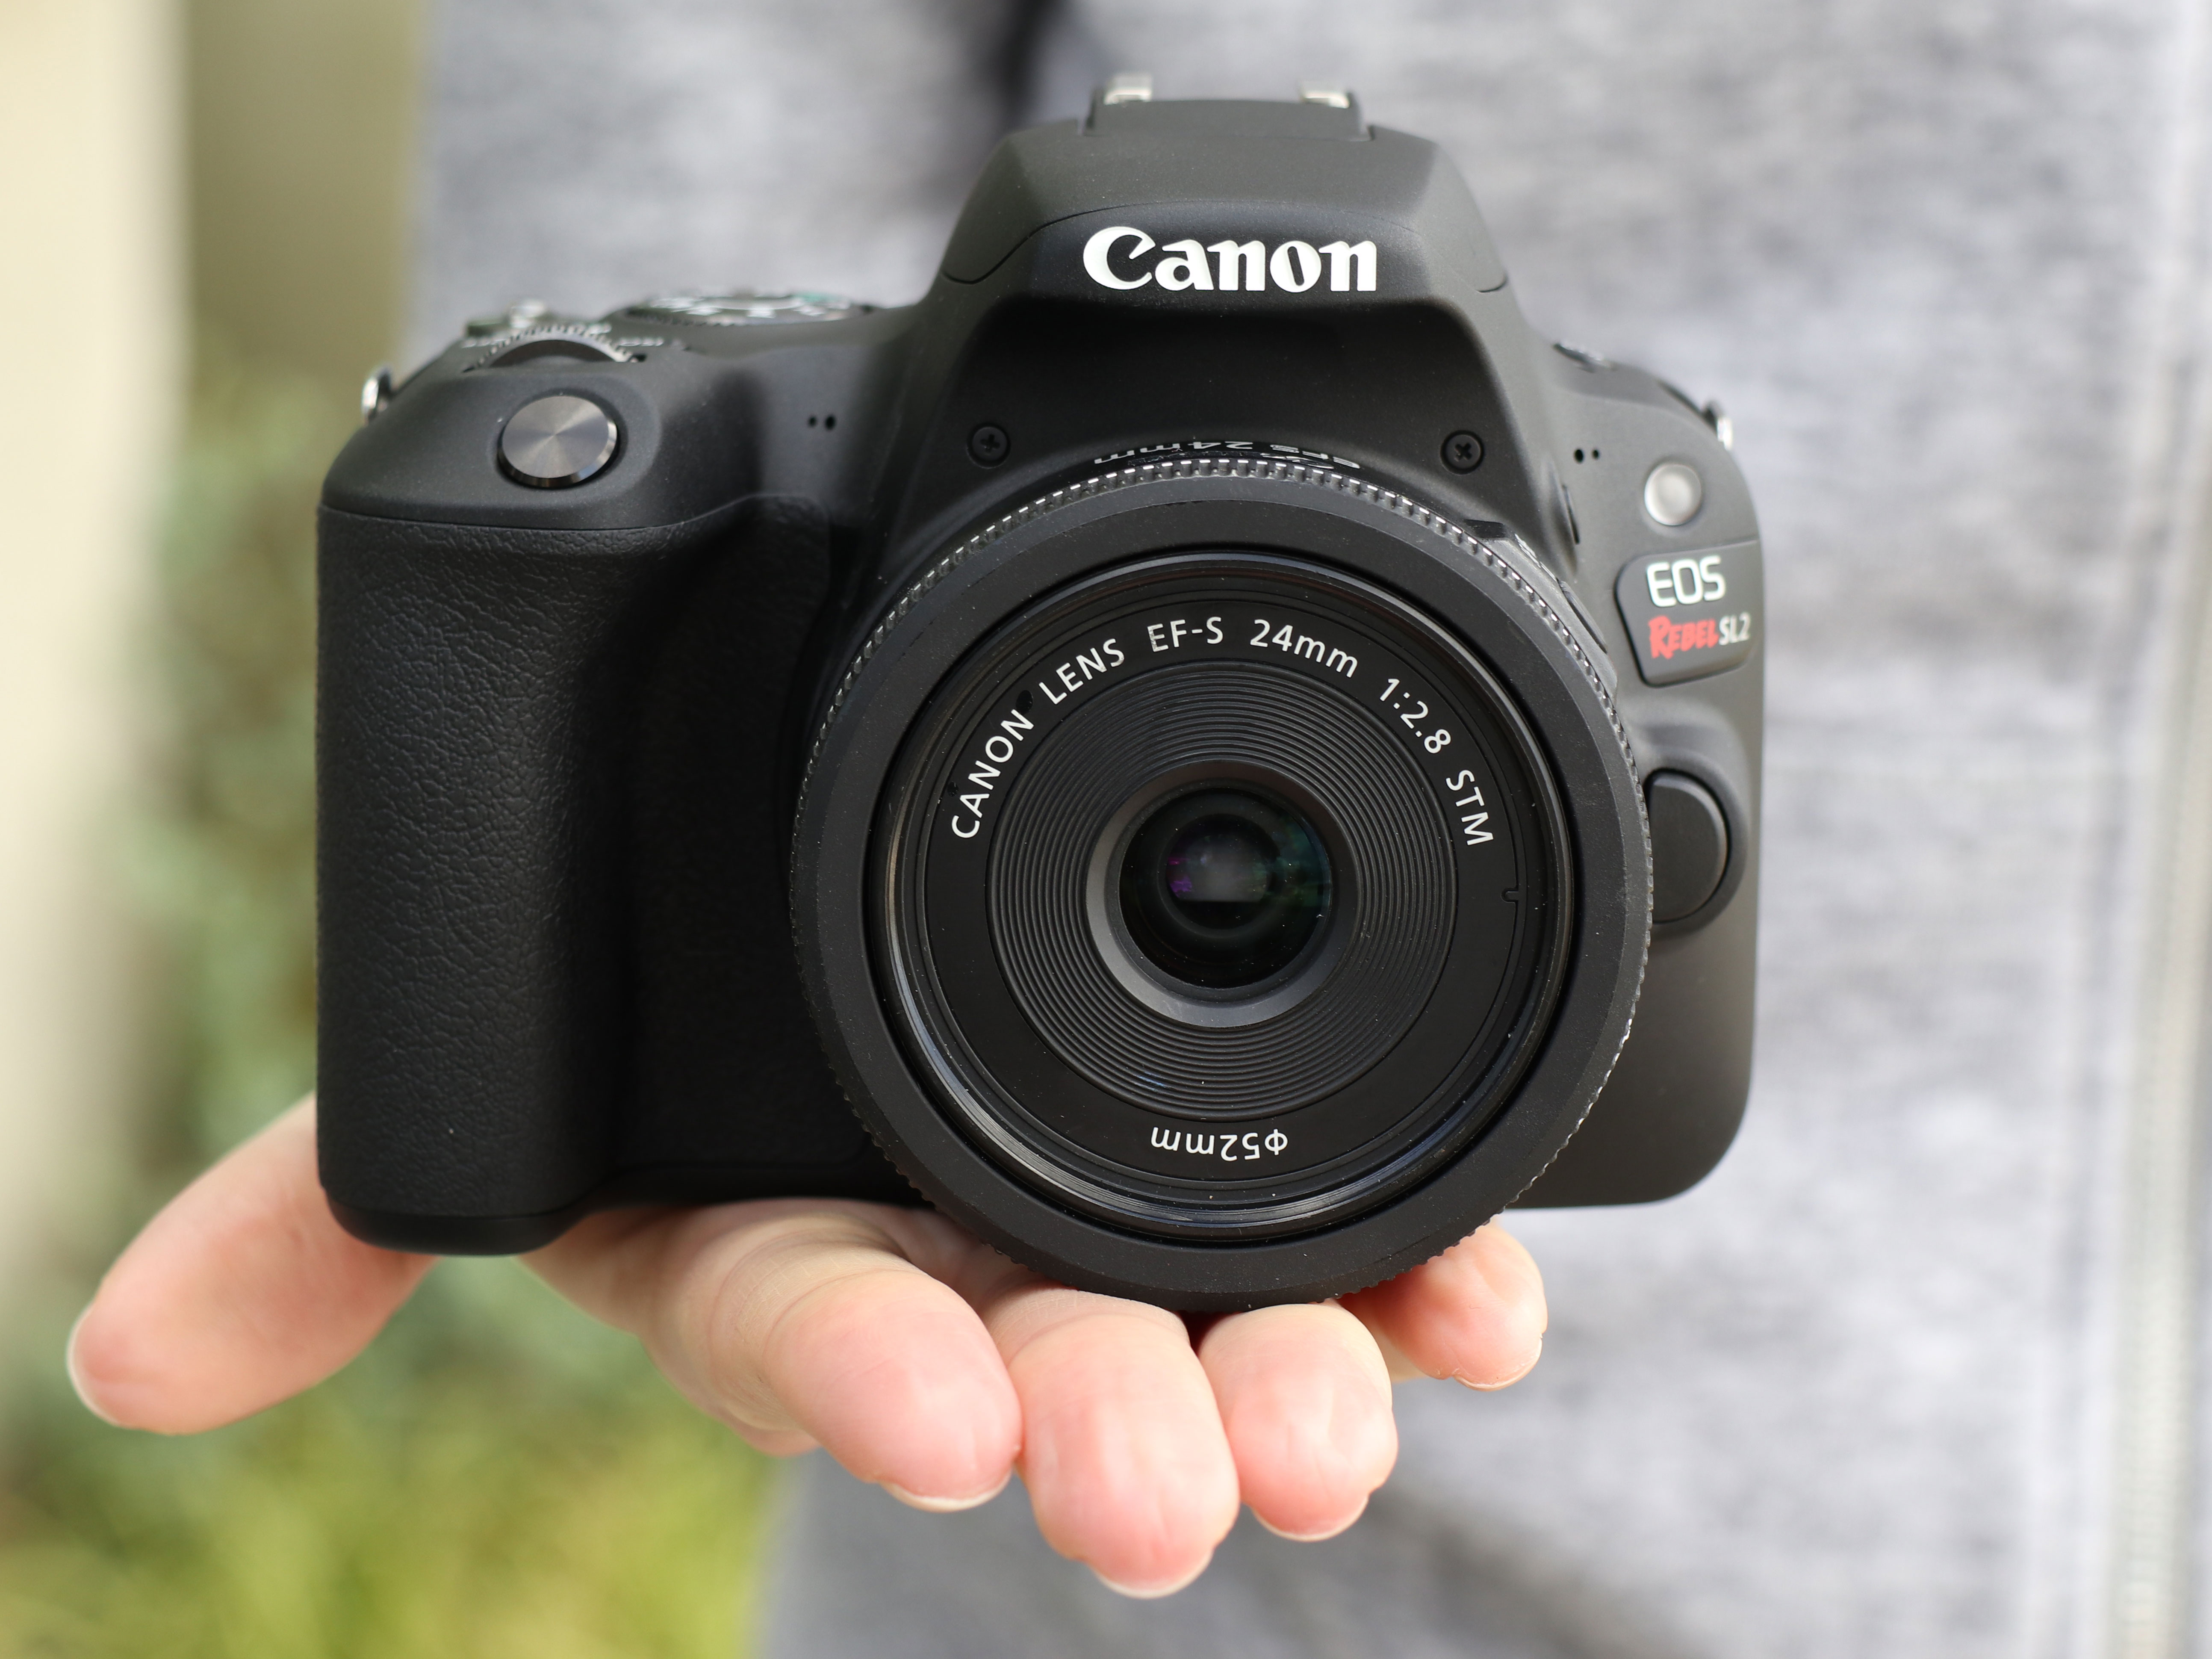camera: (732, 551, 1730, 1272), (301, 110, 312, 167)
